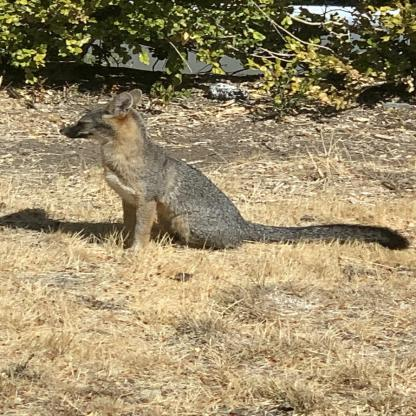zorro: (54, 85, 415, 260)
